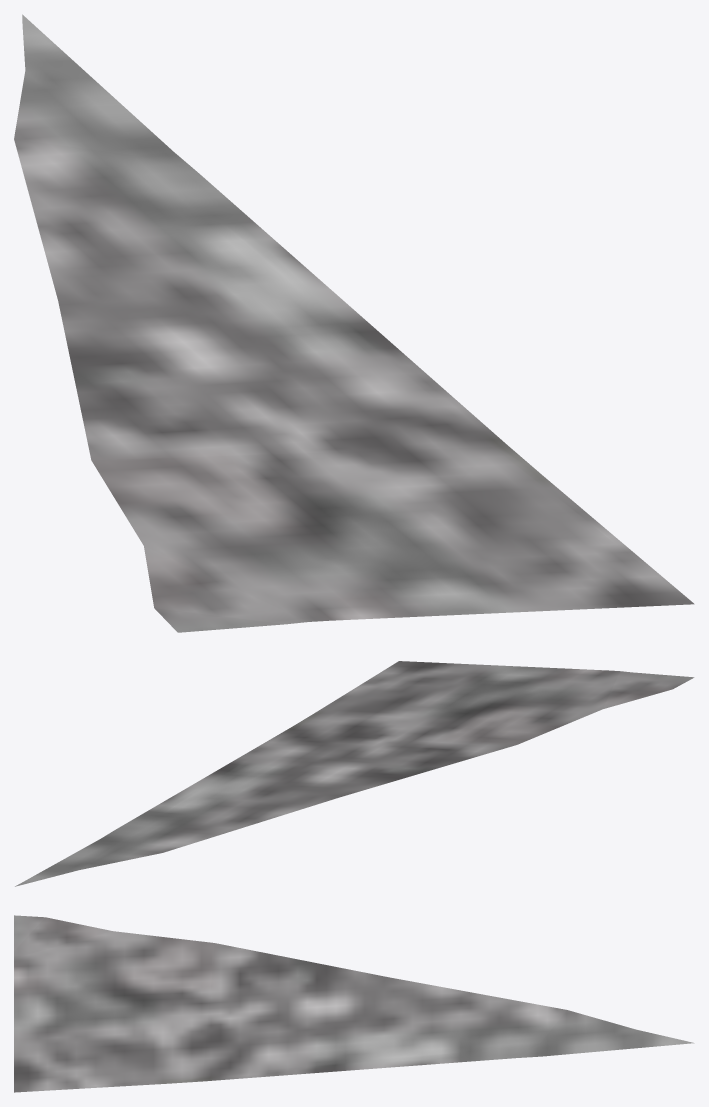
3 renders of one model, top to bottom at view 1: azimuth 30°, elevation 25°; view 2: azimuth 150°, elevation 25°; view 3: azimuth 270°, elevation 25°, orthographic. The views are drawn at different scales.
Bounding box in the file's own units: 0.1015 × 0.0183 × 0.2287.
1 material, 1 textured.
